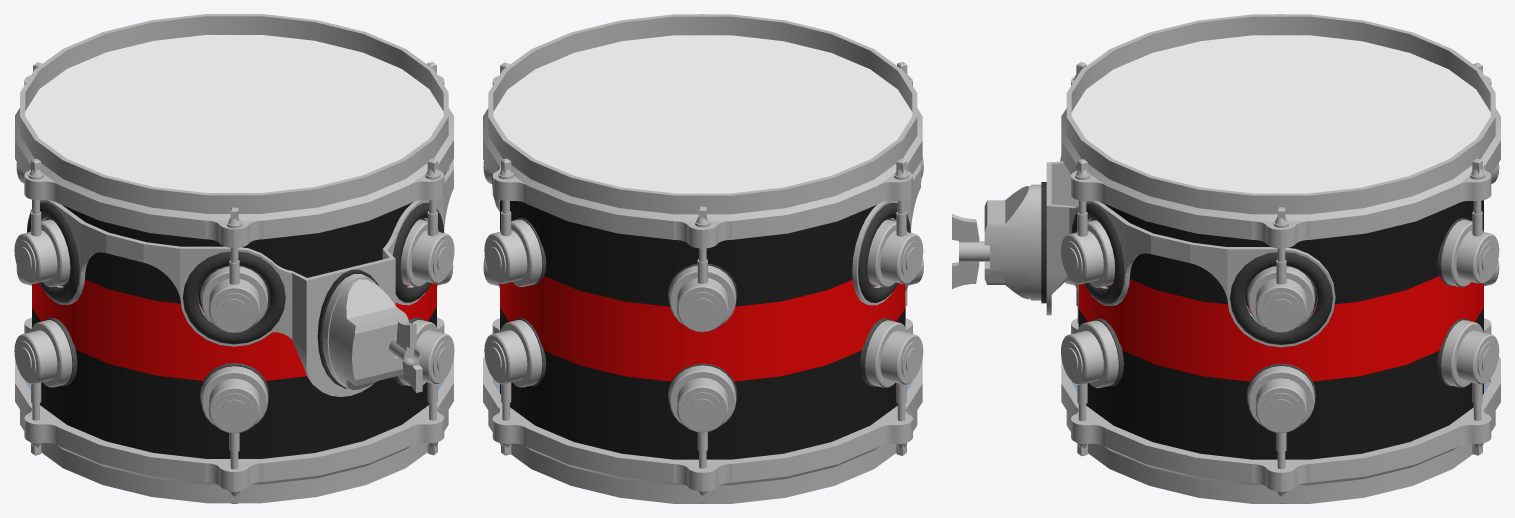
File: drumbucket.FBX
The picture shows the model from 3 angles, left to right: view 1: azimuth 30°, elevation 25°; view 2: azimuth 150°, elevation 25°; view 3: azimuth 270°, elevation 25°; orthographic projection.
Visible parts, largest first — view 1: Group_001; view 2: Group_001; view 3: Group_001.
Boxes of the visible parts, x1,y1,x2,y2 form: Group_001: [14, 14, 454, 503]; Group_001: [483, 14, 923, 503]; Group_001: [952, 14, 1500, 503].
Size of the model in its own units: 298 by 210 by 338.
